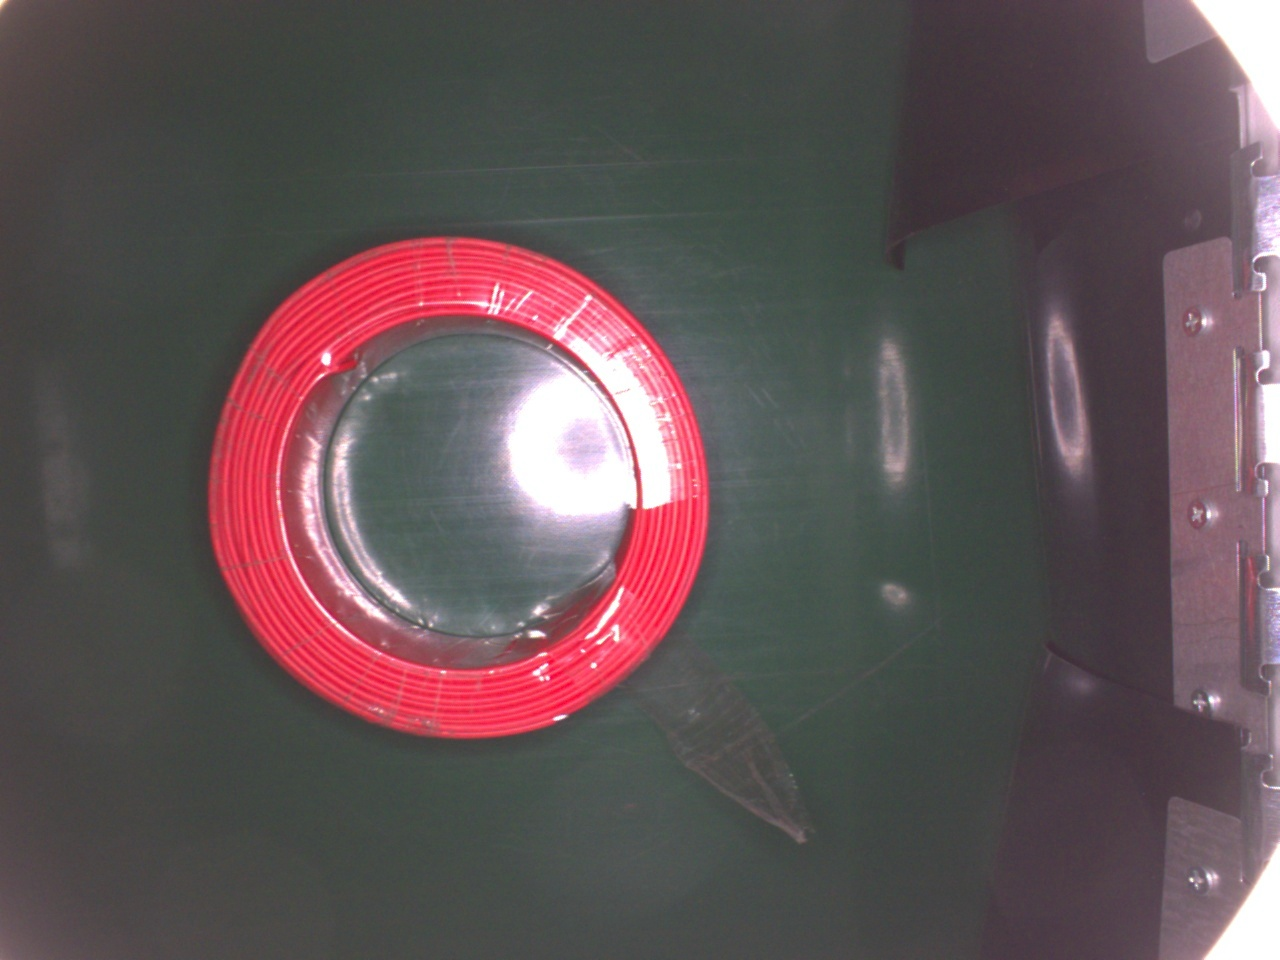red: (205, 232, 716, 744)
